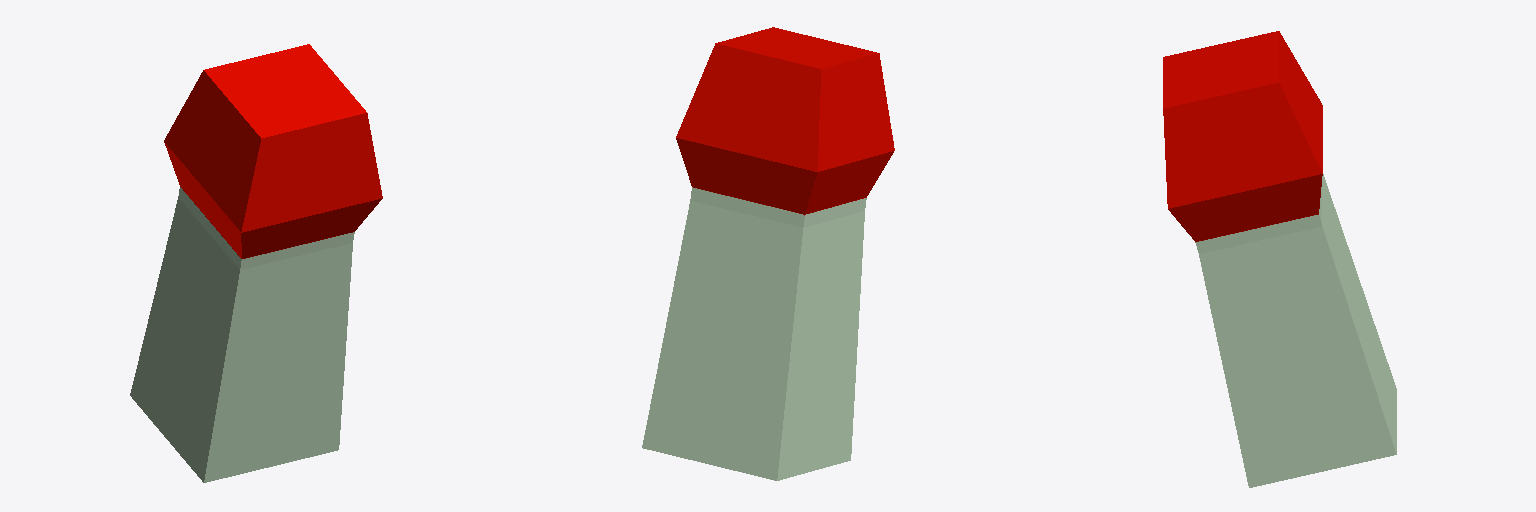
3 renders of one model, left to right at view 1: azimuth 30°, elevation 25°; view 2: azimuth 150°, elevation 25°; view 3: azimuth 270°, elevation 25°, orthographic.
Visible parts, largest first — view 1: Joystick_Cube.000; view 2: Joystick_Cube.000; view 3: Joystick_Cube.000.
Boxes of the visible parts, box(x1,y1,x2,y2) form: Joystick_Cube.000: box(130, 44, 382, 482); Joystick_Cube.000: box(642, 27, 894, 480); Joystick_Cube.000: box(1163, 31, 1396, 487).
Size of the model in its own units: 0.1036 by 0.2786 by 0.148.
Materials: 2 (1 with a texture image).